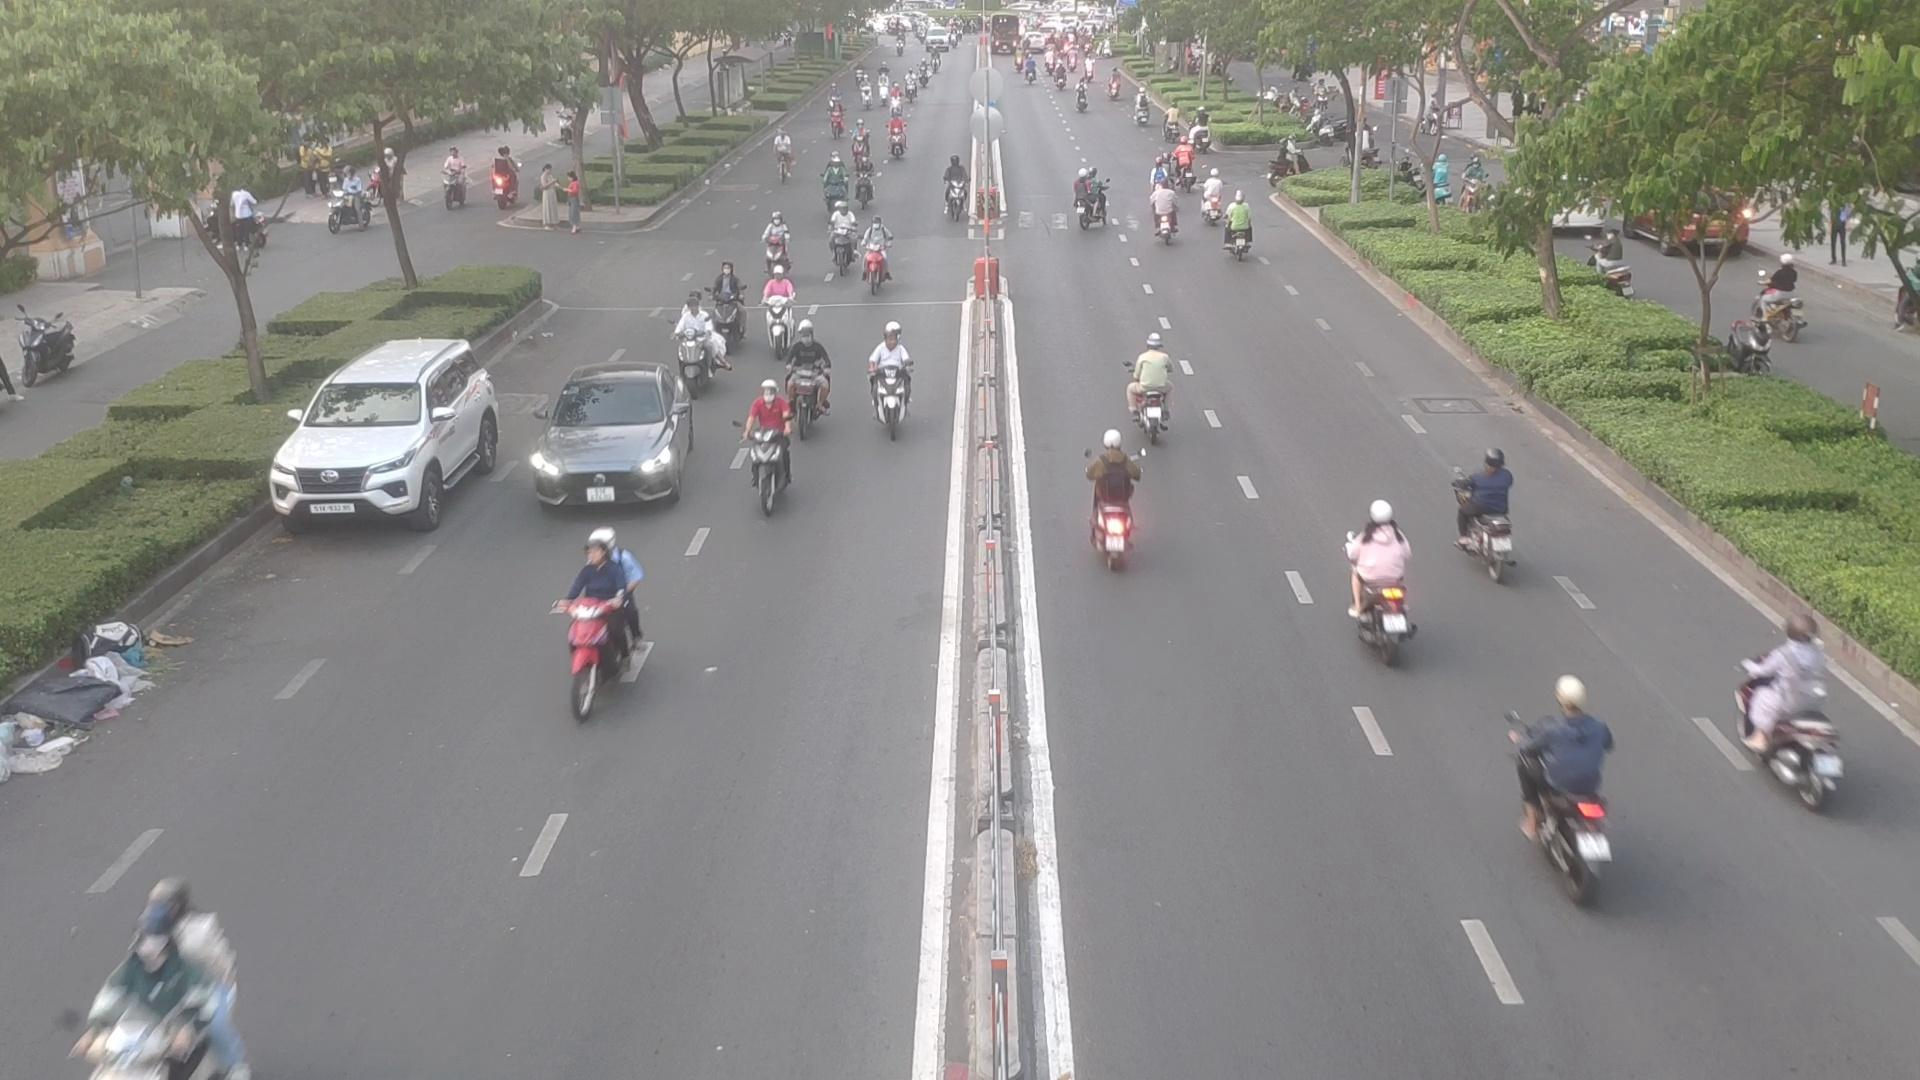car: (272, 339, 516, 530), (537, 368, 705, 512)
motorbike: (66, 876, 237, 1076), (1506, 694, 1617, 898), (1735, 626, 1851, 804), (546, 539, 658, 713), (1335, 513, 1414, 665), (1077, 433, 1149, 566), (1453, 450, 1520, 571), (742, 378, 793, 520), (1126, 343, 1185, 440), (861, 328, 916, 433), (789, 316, 832, 435), (756, 268, 808, 352), (671, 285, 713, 388), (712, 258, 753, 353), (1062, 167, 1112, 232), (858, 225, 897, 295), (1224, 199, 1262, 261), (761, 211, 790, 274), (823, 203, 855, 261), (853, 157, 880, 214), (822, 161, 847, 218), (1149, 185, 1174, 241), (1167, 146, 1197, 193), (848, 117, 872, 167), (948, 150, 967, 214), (1199, 169, 1221, 215), (887, 113, 907, 160)
